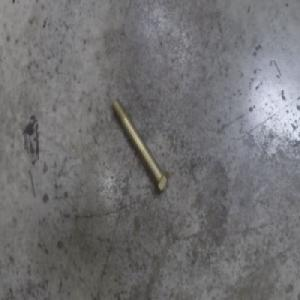Bolt: (110, 95, 170, 195)
